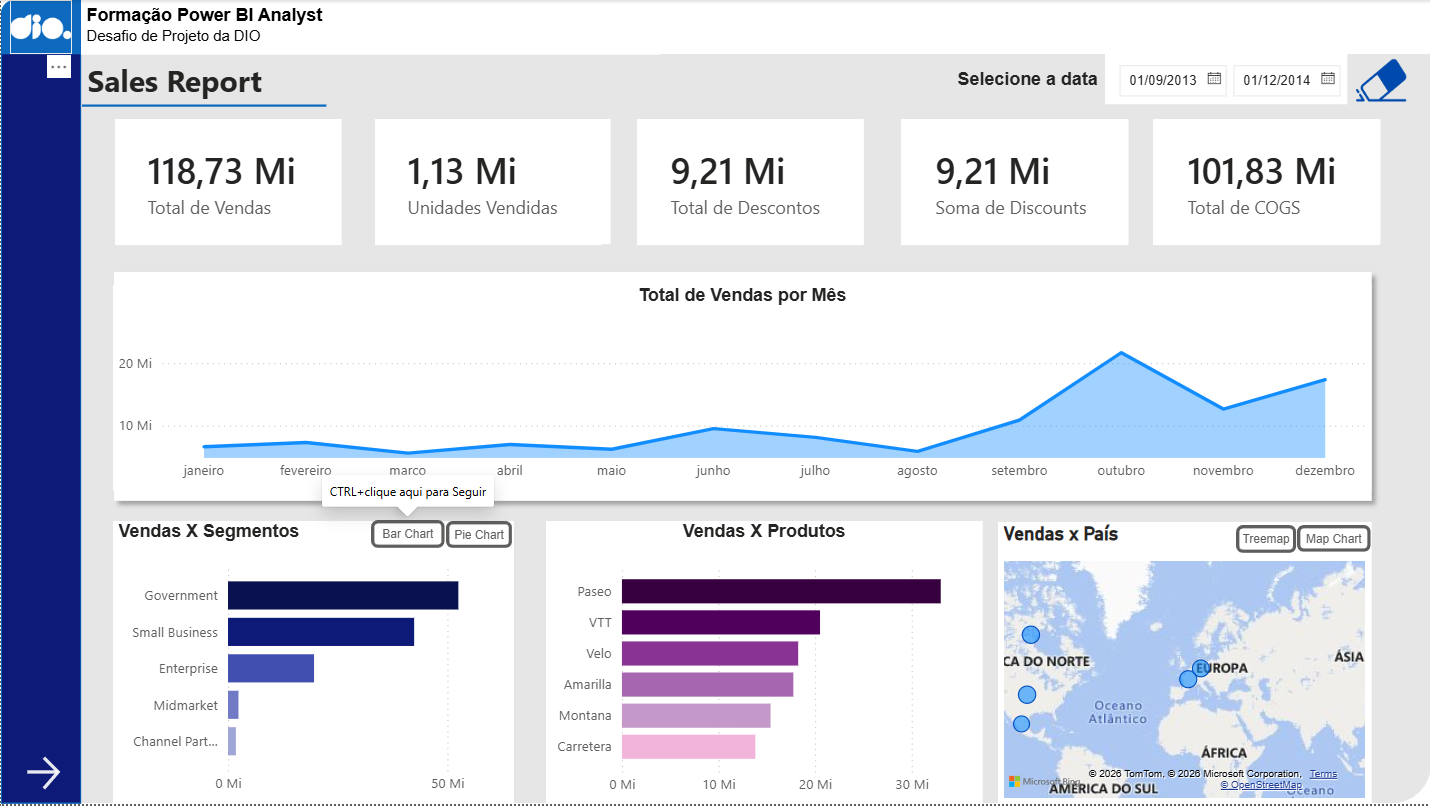

The page's visual inventory and layout, read from the dashboard file:
{"tool":"powerbi","page":{"name":"Sales Report","canvas":[1280,720],"ordinal":0},"visuals":[{"type":"shape","box":[11.3,0,1269.2,719.5],"z":0},{"type":"textbox","box":[72.2,48.5,218.8,46.2],"z":0,"group":"g5"},{"type":"slicer","fields":{"Values":["financials.Date"]},"box":[989.1,48.6,216.9,44.7],"z":0,"group":"g2"},{"type":"shape","box":[1031.7,106.9,203.3,112.9],"z":0,"group":"g1"},{"type":"shape","box":[0,0,72,719.8],"z":1000},{"type":"textbox","box":[852,57.4,137.1,36],"z":1000,"group":"g2"},{"type":"shape","box":[72.2,83.5,218.8,22.6],"z":1000,"group":"g5"},{"type":"shape","box":[806.1,106.9,203.3,112.9],"z":1000,"group":"g1"},{"type":"pieChart","title":"Vendas X Segmentos ","fields":{"Y":["Sum(financials. Sales)"],"Category":["financials.Segment"]},"box":[100.3,466.9,357.5,252.6],"z":1000,"group":"g4"},{"type":"treemap","title":"Vendas x País","fields":{"Group":["financials.Country"],"Values":["Sum(financials. Sales)"]},"box":[893.2,468,333.7,251.8],"z":1000,"group":"g3"},{"type":"actionButton","title":"Treemap","box":[1106,470,54,25],"z":1250,"group":"g3"},{"type":"actionButton","title":"Bar Chart","box":[331,466,66,25],"z":1500,"group":"g4"},{"type":"actionButton","title":"Map Chart","box":[1161,470,66,24],"z":1500,"group":"g3"},{"type":"shape","box":[0,0,72,48.6],"z":2000},{"type":"actionButton","box":[1206,48.6,62.2,46.7],"z":2000,"group":"g2"},{"type":"shape","box":[569.7,106.9,203.3,112.9],"z":2000,"group":"g1"},{"type":"actionButton","title":"Pie Chart","box":[398,467,59.2,24.2],"z":2000,"group":"g4"},{"type":"image","title":"Dio","box":[7.8,0,55.4,48.6],"z":3000},{"type":"image","title":"Clear","box":[1213.4,48.5,45.1,46.2],"z":3000,"group":"g2"},{"type":"shape","box":[334.4,106.9,203.3,112.9],"z":3000,"group":"g1"},{"type":"shape","box":[72,0,1208,48.6],"z":4000},{"type":"shape","box":[101.9,106.9,203.3,112.9],"z":4000,"group":"g1"},{"type":"textbox","box":[72,0,518.4,48.6],"z":5000},{"type":"cardVisual","fields":{"Data":["Sum(financials.COGS)"]},"box":[1033.2,106.9,201.8,111.9],"z":5000,"group":"g1"},{"type":"group","id":"g1","title":"Cartões ","box":[101.9,106.9,1133.1,112.9],"z":6000},{"type":"cardVisual","fields":{"Data":["Sum(financials.Discounts)"]},"box":[807.3,106.9,201.8,111.9],"z":6000,"group":"g1"},{"type":"cardVisual","fields":{"Data":["Sum(financials.Discounts)"]},"box":[570.5,106.9,201.8,111.9],"z":7000,"group":"g1"},{"type":"shape","box":[91.9,234.8,1144.1,222.8],"z":7000},{"type":"cardVisual","fields":{"Data":["Sum(financials.Units Sold)"]},"box":[334.7,106.9,210.8,111.9],"z":8000,"group":"g1"},{"type":"shape","box":[101.9,466.6,356.7,252.8],"z":8000},{"type":"cardVisual","fields":{"Data":["Sum(financials. Sales)"]},"box":[102,107,201.8,111.9],"z":9000,"group":"g1"},{"type":"shape","box":[487.6,466.6,390.7,252.8],"z":9000},{"type":"shape","box":[893.3,467.6,333.7,252.8],"z":10000},{"type":"areaChart","title":"Total de Vendas por Mês ","fields":{"Category":["financials.Date.Variation.Hierarquia de datas.Mês"],"Y":["Sum(financials. Sales)"]},"box":[99.9,254.8,1127.1,183.9],"z":11000},{"type":"clusteredBarChart","title":"Vendas X Produtos","fields":{"Y":["Sum(financials. Sales)"],"Category":["financials.Product"]},"box":[487.6,466.6,390.7,253.8],"z":12000},{"type":"group","id":"g2","title":"Filtro por Data","box":[852,48.5,416.3,46.8],"z":13000},{"type":"group","id":"g3","title":"Vendas x País","box":[893.2,467.6,333.9,252.2],"z":14000},{"type":"group","id":"g4","title":"Vendas x Segmentos","box":[99.9,466,358.7,253.5],"z":15000},{"type":"group","id":"g5","title":"Title Report","box":[72.2,48.5,218.8,57.5],"z":16000},{"type":"actionButton","box":[11.3,672.7,51.9,39.5],"z":17000}]}

Visuals, with their boxes on the page's 1280x720 design canvas (x1, y1, x2, y2). These are canvas units, not pixel positions in the 1430x806 screenshot, which may show the page scaled, cropped or inside an application window:
shape: box=[11, 0, 1280, 720]
textbox: box=[72, 48, 291, 95]
slicer - financials.Date: box=[989, 49, 1206, 93]
shape: box=[1032, 107, 1235, 220]
shape: box=[0, 0, 72, 720]
textbox: box=[852, 57, 989, 93]
shape: box=[72, 84, 291, 106]
shape: box=[806, 107, 1009, 220]
"Vendas X Segmentos " pieChart: box=[100, 467, 458, 720]
"Vendas x País" treemap: box=[893, 468, 1227, 720]
"Treemap" actionButton: box=[1106, 470, 1160, 495]
"Bar Chart" actionButton: box=[331, 466, 397, 491]
"Map Chart" actionButton: box=[1161, 470, 1227, 494]
shape: box=[0, 0, 72, 49]
actionButton: box=[1206, 49, 1268, 95]
shape: box=[570, 107, 773, 220]
"Pie Chart" actionButton: box=[398, 467, 457, 491]
"Dio" image: box=[8, 0, 63, 49]
"Clear" image: box=[1213, 48, 1258, 95]
shape: box=[334, 107, 538, 220]
shape: box=[72, 0, 1280, 49]
shape: box=[102, 107, 305, 220]
textbox: box=[72, 0, 590, 49]
cardVisual - Sum(financials.COGS): box=[1033, 107, 1235, 219]
"Cartões " group: box=[102, 107, 1235, 220]
cardVisual - Sum(financials.Discounts): box=[807, 107, 1009, 219]
cardVisual - Sum(financials.Discounts): box=[570, 107, 772, 219]
shape: box=[92, 235, 1236, 458]
cardVisual - Sum(financials.Units Sold): box=[335, 107, 546, 219]
shape: box=[102, 467, 459, 719]
cardVisual - Sum(financials. Sales): box=[102, 107, 304, 219]
shape: box=[488, 467, 878, 719]
shape: box=[893, 468, 1227, 720]
"Total de Vendas por Mês " areaChart: box=[100, 255, 1227, 439]
"Vendas X Produtos" clusteredBarChart: box=[488, 467, 878, 720]
"Filtro por Data" group: box=[852, 48, 1268, 95]
"Vendas x País" group: box=[893, 468, 1227, 720]
"Vendas x Segmentos" group: box=[100, 466, 459, 720]
"Title Report" group: box=[72, 48, 291, 106]
actionButton: box=[11, 673, 63, 712]
